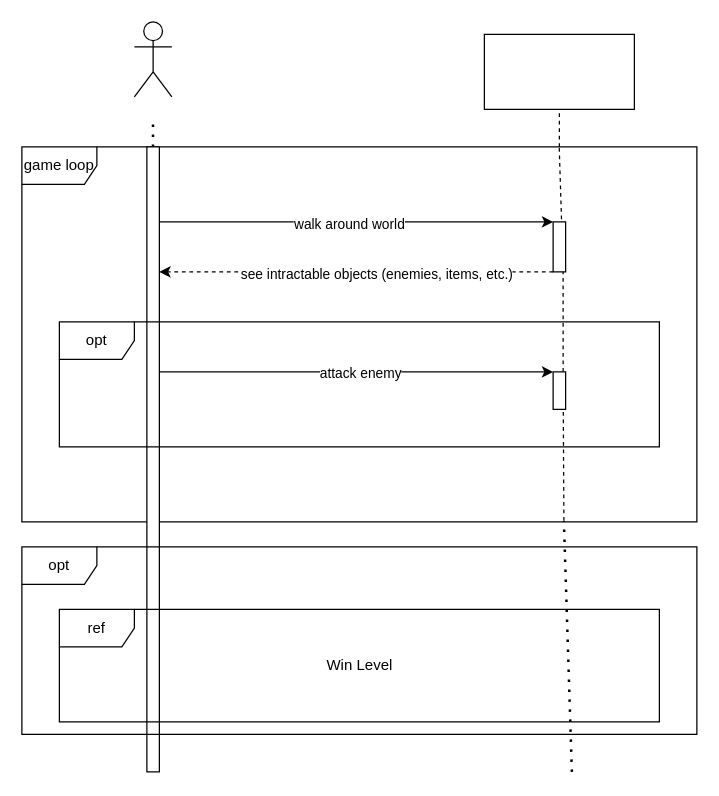
The diagram is 719 pixels wide and 796 high, and some of its shapes have lost their labels. The shapes that lost their labels are listed below. From the top down, each one's centre as x and y in pixels, then its label:
[152,59]: Player
[558,71]: Game
